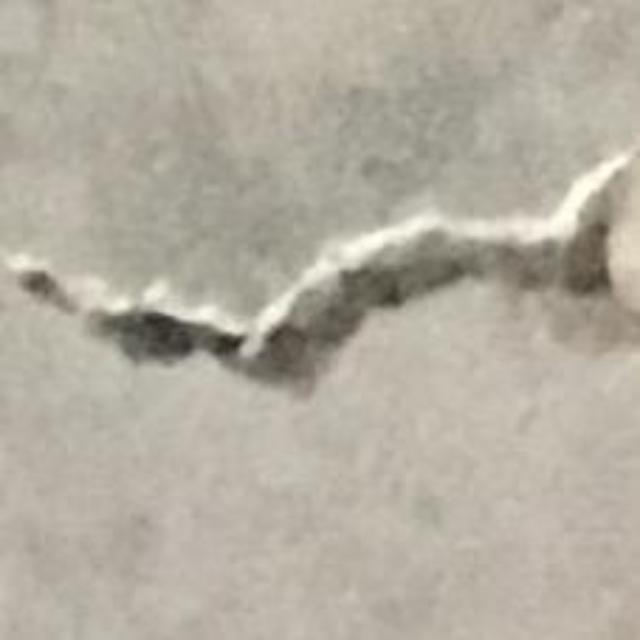crack: (0, 141, 639, 386)
